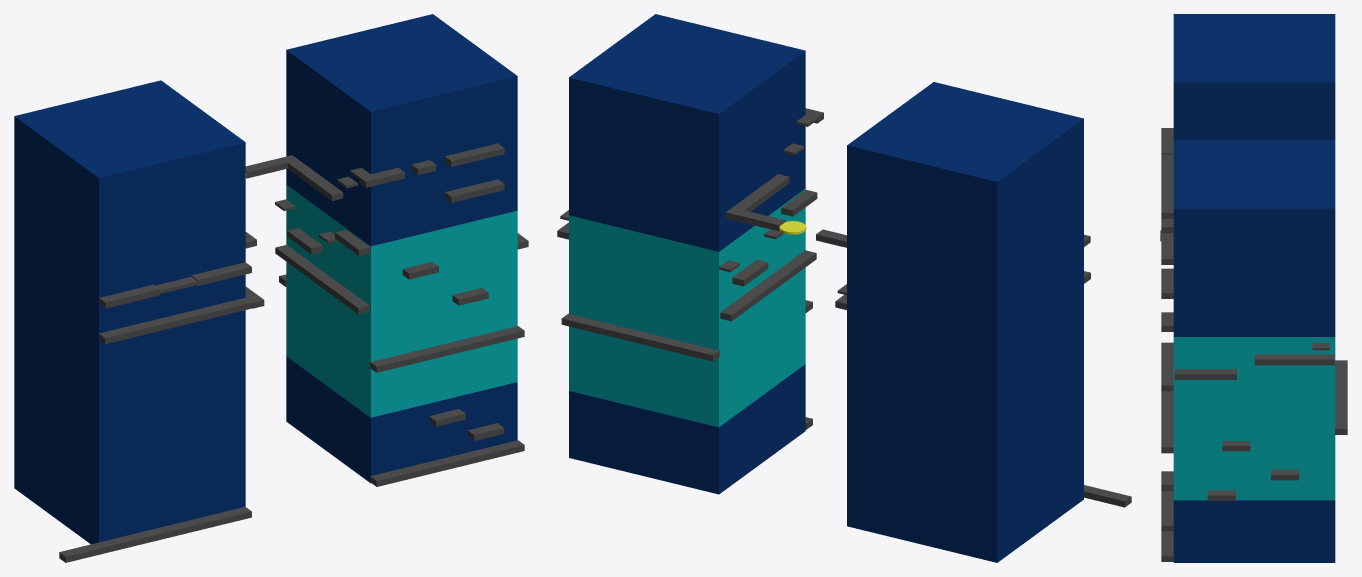
The model's file is Stage3.fbx.
3 views of the same model, side by side, from view 1: azimuth 30°, elevation 25°; view 2: azimuth 150°, elevation 25°; view 3: azimuth 270°, elevation 25° (orthographic). The views are drawn at different scales.
Visible parts, largest first — view 1: Building_Center, Building_Center1, Building_Center3, Building_Center4, Building_Center2, Ground1, Ground29, Ground30, Ground7, Ground32, Ground20, Ground17 (+3 smaller); view 2: Building_Center, Building_Center1, Building_Center3, Building_Center2, Building_Center4, Ground37, Ground32, Ground20; view 3: Building_Center1, Building_Center, Building_Center3, Building_Center2, Building_Center4, Ground37, Ground38, Ground30, Ground40, Ground29, Ground25, Ground26 (+11 smaller).
Boxes of the visible parts, x1,y1,x2,y2 form: Building_Center: [14, 80, 245, 544]; Building_Center1: [286, 14, 517, 246]; Building_Center3: [286, 185, 517, 348]; Building_Center4: [286, 287, 517, 417]; Building_Center2: [286, 356, 517, 483]; Ground1: [59, 506, 251, 562]; Ground29: [370, 440, 524, 486]; Ground30: [370, 326, 524, 372]; Ground7: [98, 297, 252, 344]; Ground32: [275, 245, 369, 314]; Ground20: [281, 155, 343, 200]; Ground17: [99, 285, 159, 308]; Building_Center: [847, 82, 1083, 562]; Building_Center1: [569, 14, 805, 251]; Building_Center3: [569, 189, 805, 355]; Building_Center2: [569, 364, 805, 494]; Building_Center4: [569, 293, 805, 426]; Ground37: [561, 313, 719, 361]; Ground32: [720, 250, 816, 321]; Ground20: [726, 174, 789, 220]; Building_Center1: [1173, 140, 1335, 336]; Building_Center: [1173, 14, 1335, 140]; Building_Center3: [1173, 337, 1335, 434]; Building_Center2: [1173, 500, 1335, 562]; Building_Center4: [1173, 434, 1335, 500]; Ground37: [1335, 360, 1347, 434]; Ground38: [1254, 354, 1334, 365]; Ground30: [1161, 391, 1173, 453]; Ground40: [1174, 369, 1236, 379]; Ground29: [1161, 491, 1173, 561]; Ground25: [1161, 234, 1173, 264]; Ground26: [1161, 268, 1173, 298].
Size of the model in its own units: 41.49 by 31.4 by 15.01.
